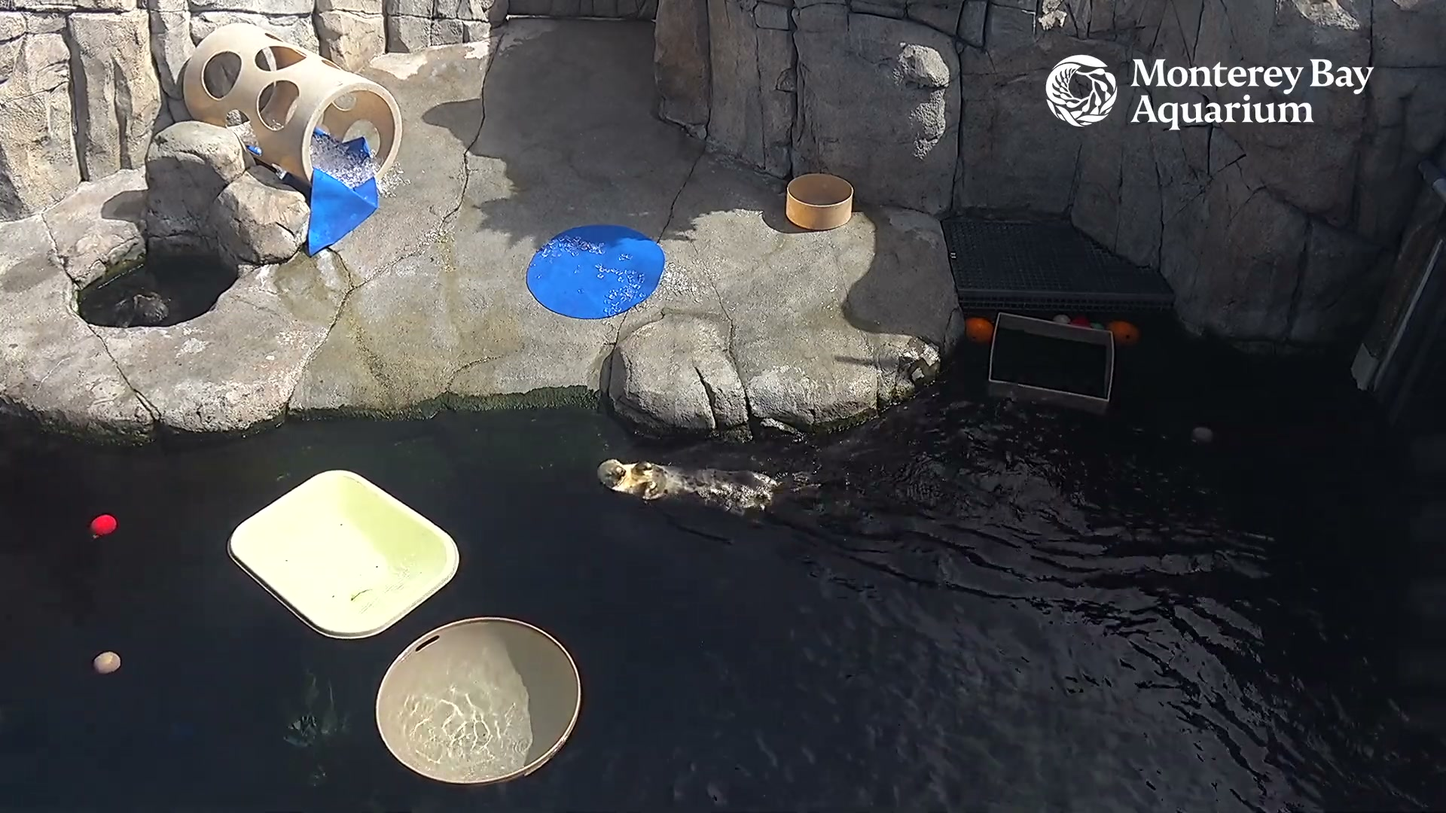Southern Sea Otter: (591, 443, 843, 527), (117, 293, 171, 328)
